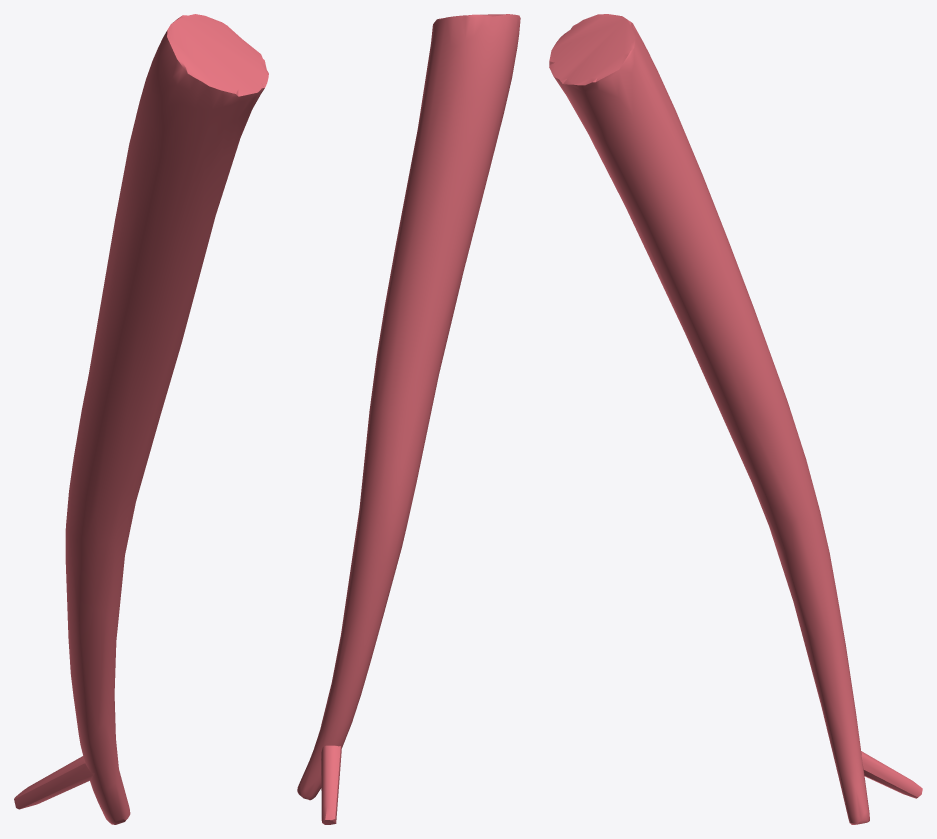
Rendered from fma68741_cx191.glb.
The picture shows the model from 3 angles, left to right: view 1: azimuth 30°, elevation 25°; view 2: azimuth 150°, elevation 25°; view 3: azimuth 270°, elevation 25°; orthographic projection. The views are drawn at different scales.
Visible parts, largest first — view 1: FMA68741_CX191; view 2: FMA68741_CX191; view 3: FMA68741_CX191.
Part boxes in pixels (x1,y1,x2,y2): FMA68741_CX191: (14,14,268,824); FMA68741_CX191: (297,14,520,824); FMA68741_CX191: (549,14,922,824).
Size of the model in its own units: 0.0135 by 0.0962 by 0.0421.
